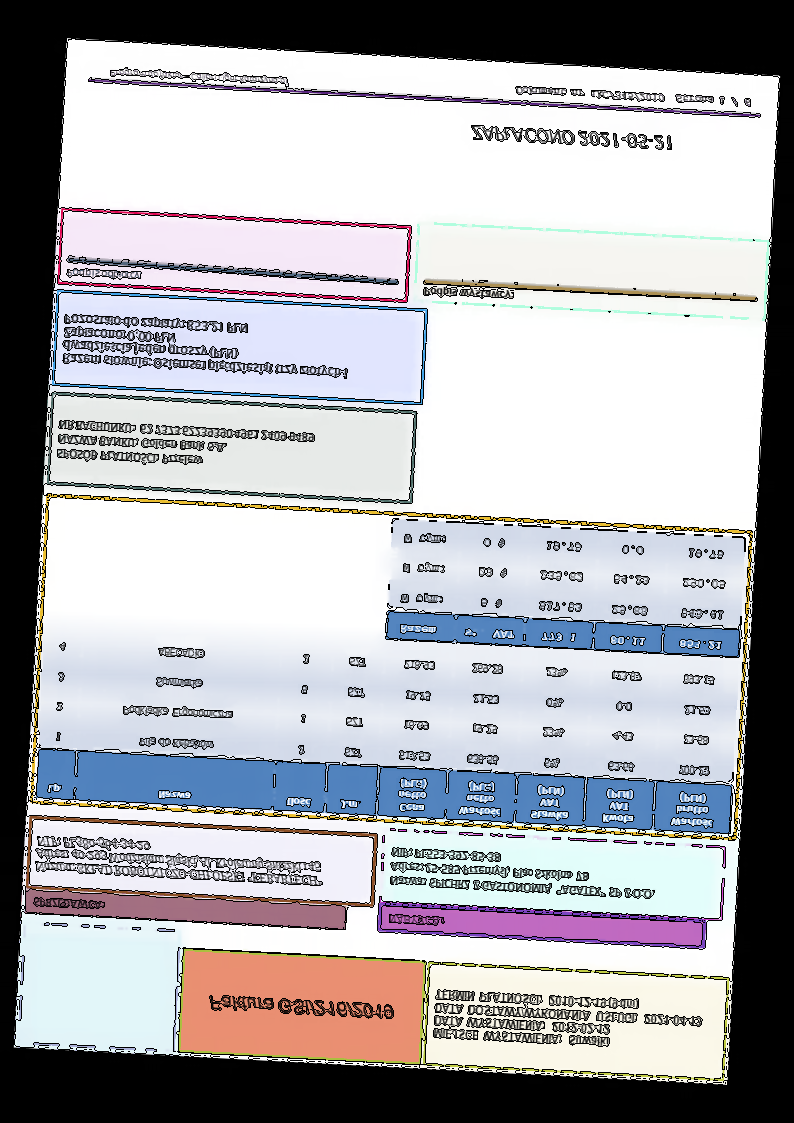Table: (34, 625, 740, 836), (385, 517, 746, 658)
TextBox: (60, 311, 353, 381), (431, 987, 704, 1056), (33, 832, 328, 888), (388, 846, 659, 901), (55, 418, 315, 475), (468, 121, 675, 154), (512, 83, 753, 109), (206, 993, 395, 1022), (107, 65, 291, 88), (421, 283, 516, 303), (64, 264, 143, 284), (31, 895, 105, 913), (387, 912, 445, 928)
